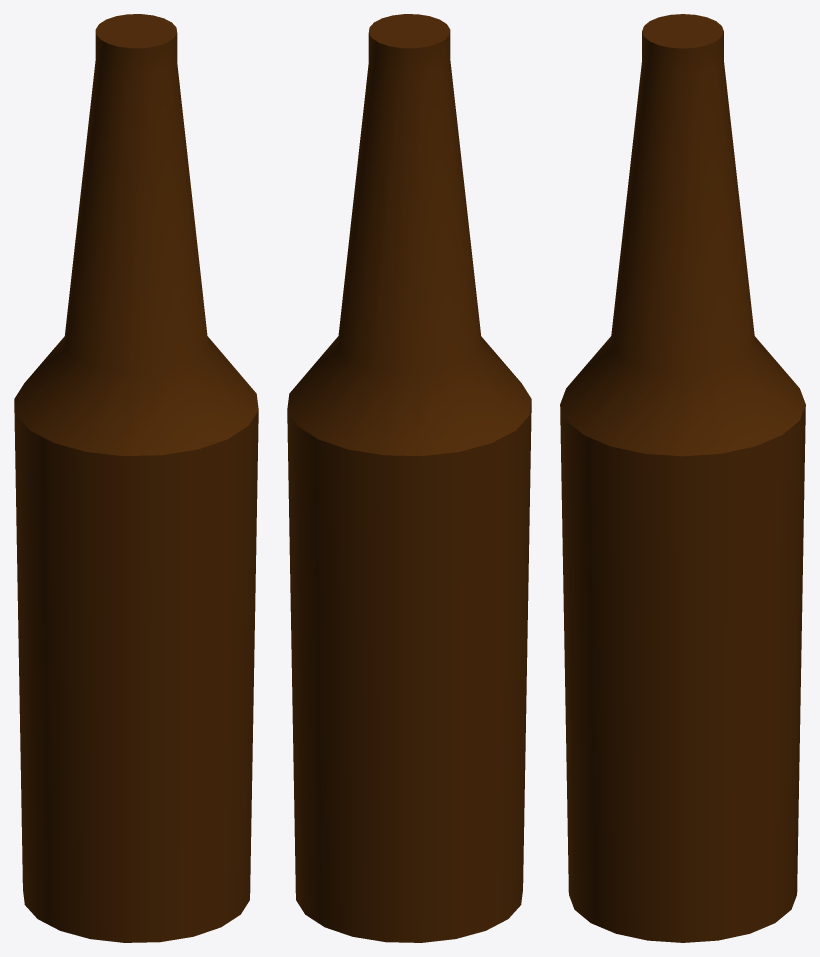
File: beer bottle.fbx
3 views of the same model, side by side, from view 1: azimuth 30°, elevation 25°; view 2: azimuth 150°, elevation 25°; view 3: azimuth 270°, elevation 25° (orthographic).
Parts seen in each view (by area): view 1: pCylinder1; view 2: pCylinder1; view 3: pCylinder1.
Boxes of the visible parts, box(x1,y1,x2,y2) form: pCylinder1: box(14, 14, 258, 942); pCylinder1: box(287, 14, 531, 942); pCylinder1: box(560, 14, 805, 942).
Size of the model in its own units: 6.14 by 23.81 by 6.14.
